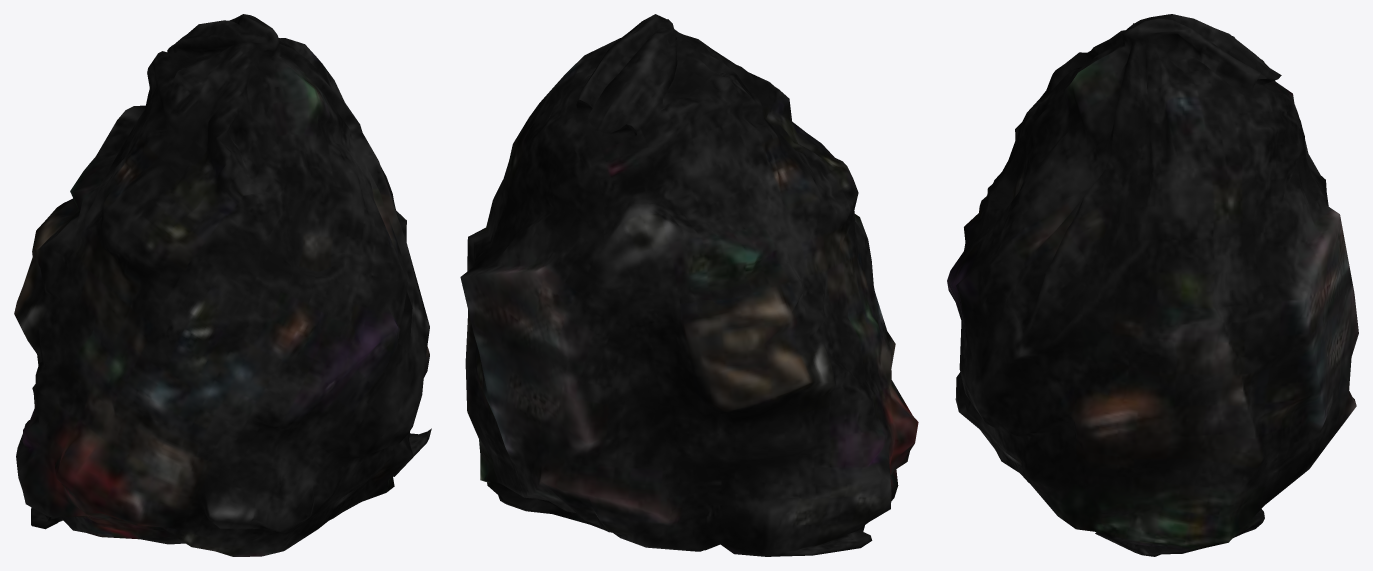
The model's file is trashbag.glb.
3 renders of one model, left to right at view 1: azimuth 30°, elevation 25°; view 2: azimuth 150°, elevation 25°; view 3: azimuth 270°, elevation 25°, orthographic. The views are drawn at different scales.
Parts seen in each view (by area): view 1: trashbag; view 2: trashbag; view 3: trashbag.
Part boxes in pixels (x1,y1,x2,y2): trashbag: (14, 14, 431, 556); trashbag: (460, 14, 918, 556); trashbag: (947, 14, 1358, 556).
Bounding box in the file's own units: 0.5281 × 0.575 × 0.4629.
1 material, 1 textured.
